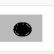correct: (11, 21, 34, 38)
